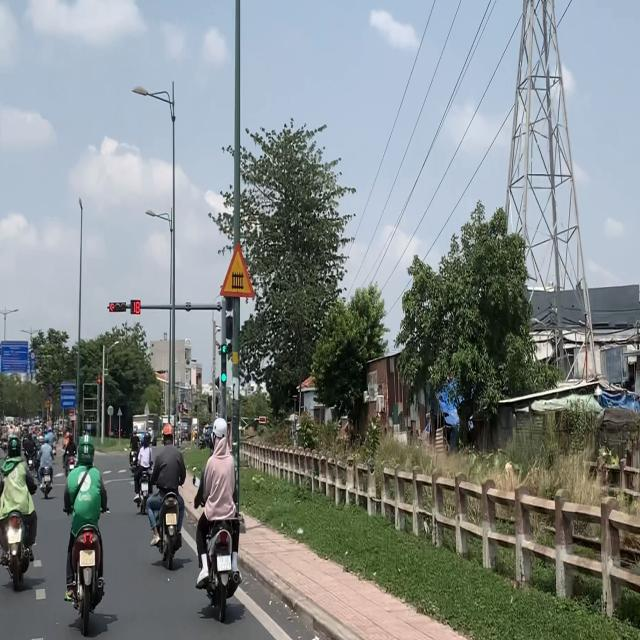Nguy hiem: (218, 239, 258, 301)
